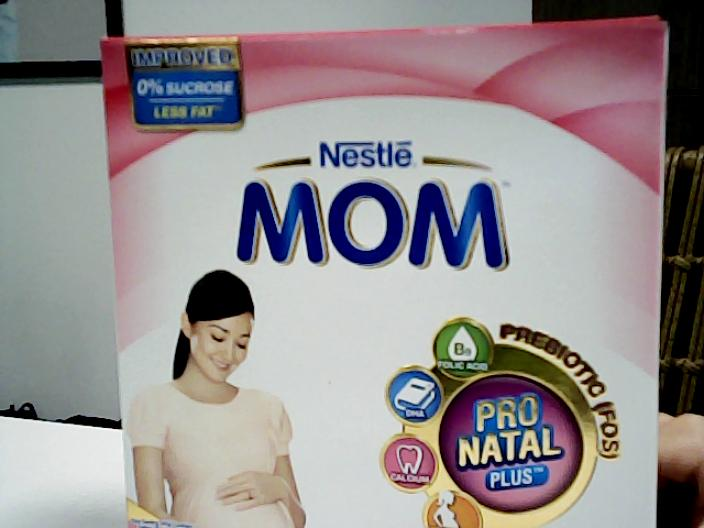MaternalMilkPowder_600-699g_Halal_NonHealthy: (115, 38, 645, 525)
